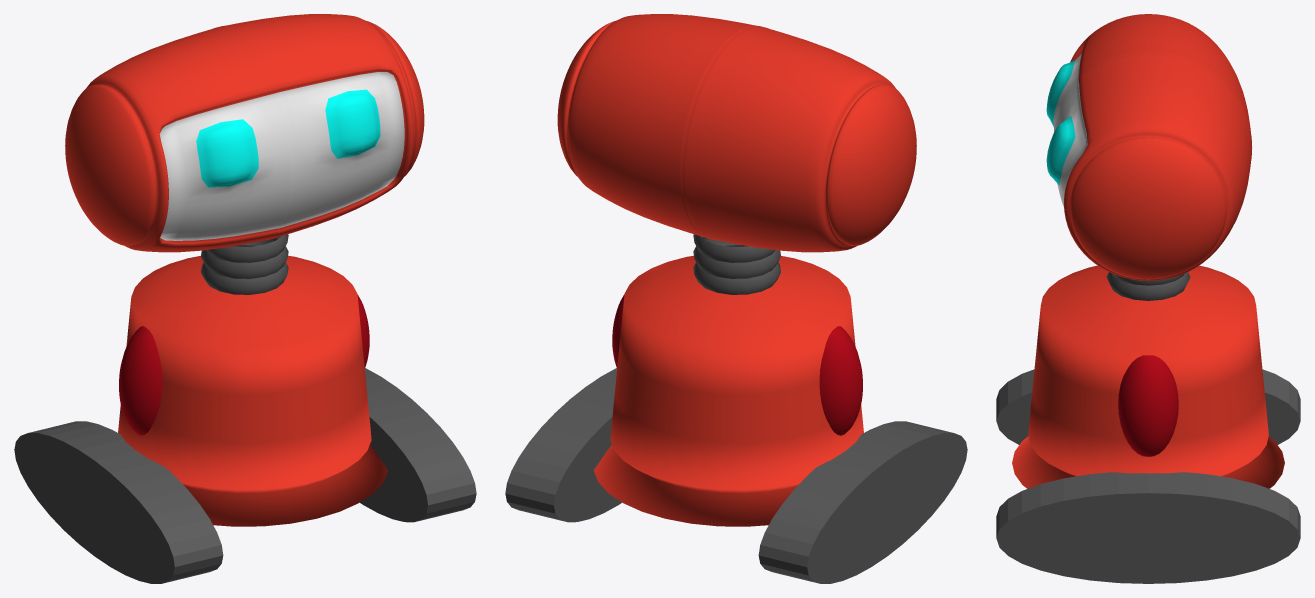
The model's file is Robot.fbx.
3 views of the same model, side by side, from view 1: azimuth 30°, elevation 25°; view 2: azimuth 150°, elevation 25°; view 3: azimuth 270°, elevation 25° (orthographic). The views are drawn at different scales.
Visible parts, largest first — view 1: Sphere, Cylinder, Cylinder.001, Arms, Circle; view 2: Sphere, Cylinder, Cylinder.001, Arms, Circle; view 3: Sphere, Cylinder, Cylinder.001, Arms, Circle.
Boxes of the visible parts, box(x1,y1,x2,y2) form: Sphere: box(65, 14, 424, 252); Cylinder: box(118, 255, 388, 526); Cylinder.001: box(14, 368, 476, 583); Arms: box(119, 295, 369, 435); Circle: box(201, 234, 288, 294); Sphere: box(557, 14, 916, 252); Cylinder: box(593, 255, 863, 526); Cylinder.001: box(505, 368, 967, 583); Arms: box(612, 295, 862, 435); Circle: box(693, 234, 780, 294); Sphere: box(1046, 14, 1252, 280); Cylinder: box(1012, 265, 1284, 488); Cylinder.001: box(996, 369, 1300, 583); Arms: box(1118, 355, 1178, 456); Circle: box(1106, 272, 1190, 300).
Size of the model in its own units: 410 by 589 by 353.
